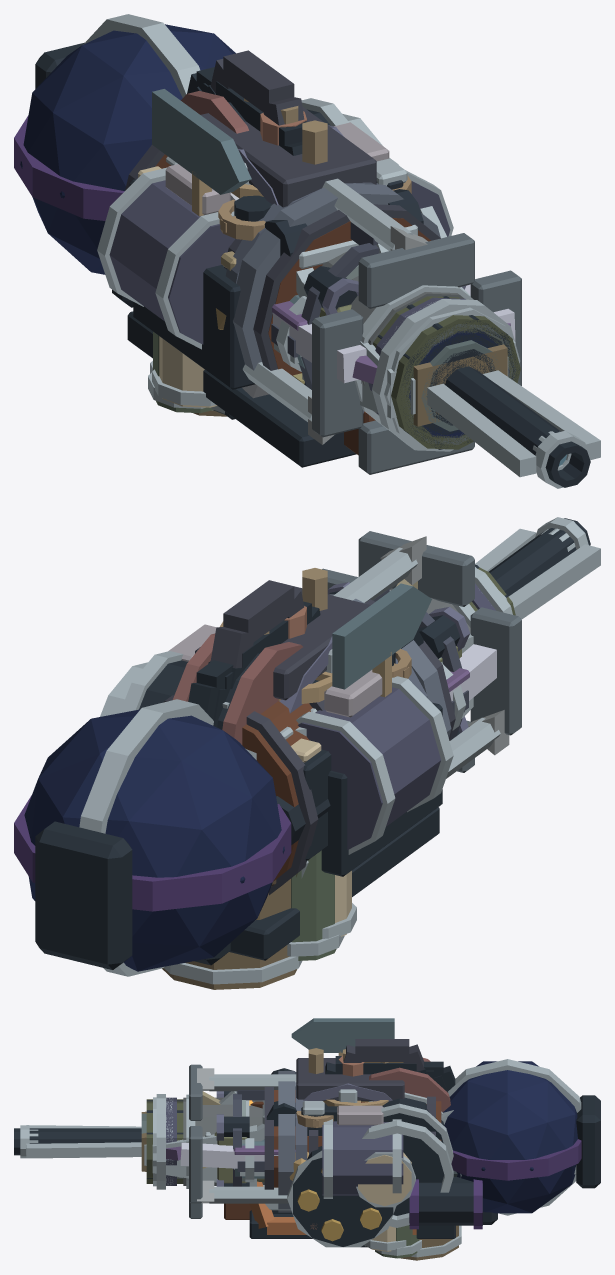
Rendered from arsenal-energy.glb.
3 renders of one model, top to bottom at view 1: azimuth 30°, elevation 25°; view 2: azimuth 150°, elevation 25°; view 3: azimuth 270°, elevation 25°, orthographic. The views are drawn at different scales.
Visible parts, largest first — view 1: charge_nova_static_shell, aperture_lamp_static_shell, clap_mortar_static_shell, thunder_cask_static_shell, thunder_cask_static_dark, aegis_lance_static_edge, thunder_cask_reload_shell, return_post_static_shell, orbit_guard_static_shell, aegis_lance_static_dark, nail_collapse_reload_dark, rocket_hammer_static_shell (+33 smaller); view 2: charge_nova_static_shell, charge_nova_static_dark, clap_mortar_static_shell, aperture_lamp_static_shell, thunder_cask_static_shell, charge_nova_static_trim, return_post_static_shell, charge_nova_static_edge, thunder_cask_static_dark, aegis_lance_static_edge, clap_mortar_static_edge, thread_beam_static_trim (+26 smaller); view 3: charge_nova_static_shell, clap_mortar_static_shell, grenade_lobber_reload_dark, thunder_cask_static_shell, return_post_static_shell, charge_nova_static_trim, aegis_lance_static_edge, orbit_guard_reload_edge, charge_nova_reload_dark, charge_nova_static_dark, thunder_cask_reload_shell, aperture_lamp_static_shell (+42 smaller).
Boxes of the visible parts, x1=… form: charge_nova_static_shell: x1=20, y1=24, x2=509, y2=437; aperture_lamp_static_shell: x1=312, y1=233, x2=521, y2=474; clap_mortar_static_shell: x1=109, y1=180, x2=465, y2=414; thunder_cask_static_shell: x1=125, y1=50, x2=440, y2=370; thunder_cask_static_dark: x1=127, y1=296, x2=519, y2=467; aegis_lance_static_edge: x1=427, y1=370, x2=600, y2=488; thunder_cask_reload_shell: x1=201, y1=106, x2=376, y2=207; return_post_static_shell: x1=152, y1=89, x2=304, y2=368; orbit_guard_static_shell: x1=233, y1=183, x2=440, y2=370; aegis_lance_static_dark: x1=445, y1=366, x2=590, y2=487; nail_collapse_reload_dark: x1=133, y1=265, x2=255, y2=389; rocket_hammer_static_shell: x1=373, y1=296, x2=520, y2=449; charge_nova_static_shell: x1=24, y1=709, x2=284, y2=971; charge_nova_static_dark: x1=35, y1=672, x2=233, y2=969; clap_mortar_static_shell: x1=298, y1=583, x2=495, y2=849; aperture_lamp_static_shell: x1=322, y1=531, x2=521, y2=772; thunder_cask_static_shell: x1=163, y1=580, x2=455, y2=895; charge_nova_static_trim: x1=14, y1=795, x2=291, y2=911; return_post_static_shell: x1=332, y1=583, x2=431, y2=689; charge_nova_static_edge: x1=79, y1=699, x2=256, y2=976; thunder_cask_static_dark: x1=229, y1=564, x2=508, y2=960; aegis_lance_static_edge: x1=475, y1=517, x2=600, y2=619; clap_mortar_static_edge: x1=296, y1=676, x2=453, y2=854; thread_beam_static_trim: x1=173, y1=633, x2=302, y2=744; charge_nova_static_shell: x1=443, y1=1061, x2=577, y2=1213; clap_mortar_static_shell: x1=166, y1=1097, x2=403, y2=1195; grenade_lobber_reload_dark: x1=293, y1=1146, x2=393, y2=1246; thunder_cask_static_shell: x1=264, y1=1039, x2=435, y2=1189; return_post_static_shell: x1=235, y1=1018, x2=394, y2=1178; charge_nova_static_trim: x1=451, y1=1139, x2=581, y2=1180; aegis_lance_static_edge: x1=20, y1=1125, x2=141, y2=1158; orbit_guard_reload_edge: x1=209, y1=1074, x2=296, y2=1203; charge_nova_reload_dark: x1=409, y1=1177, x2=482, y2=1225; charge_nova_static_dark: x1=426, y1=1070, x2=600, y2=1188; thunder_cask_reload_shell: x1=296, y1=1058, x2=404, y2=1100; aperture_lamp_static_shell: x1=189, y1=1064, x2=202, y2=1218.
Size of the model in its own units: 0.806 by 0.895 by 2.39.
